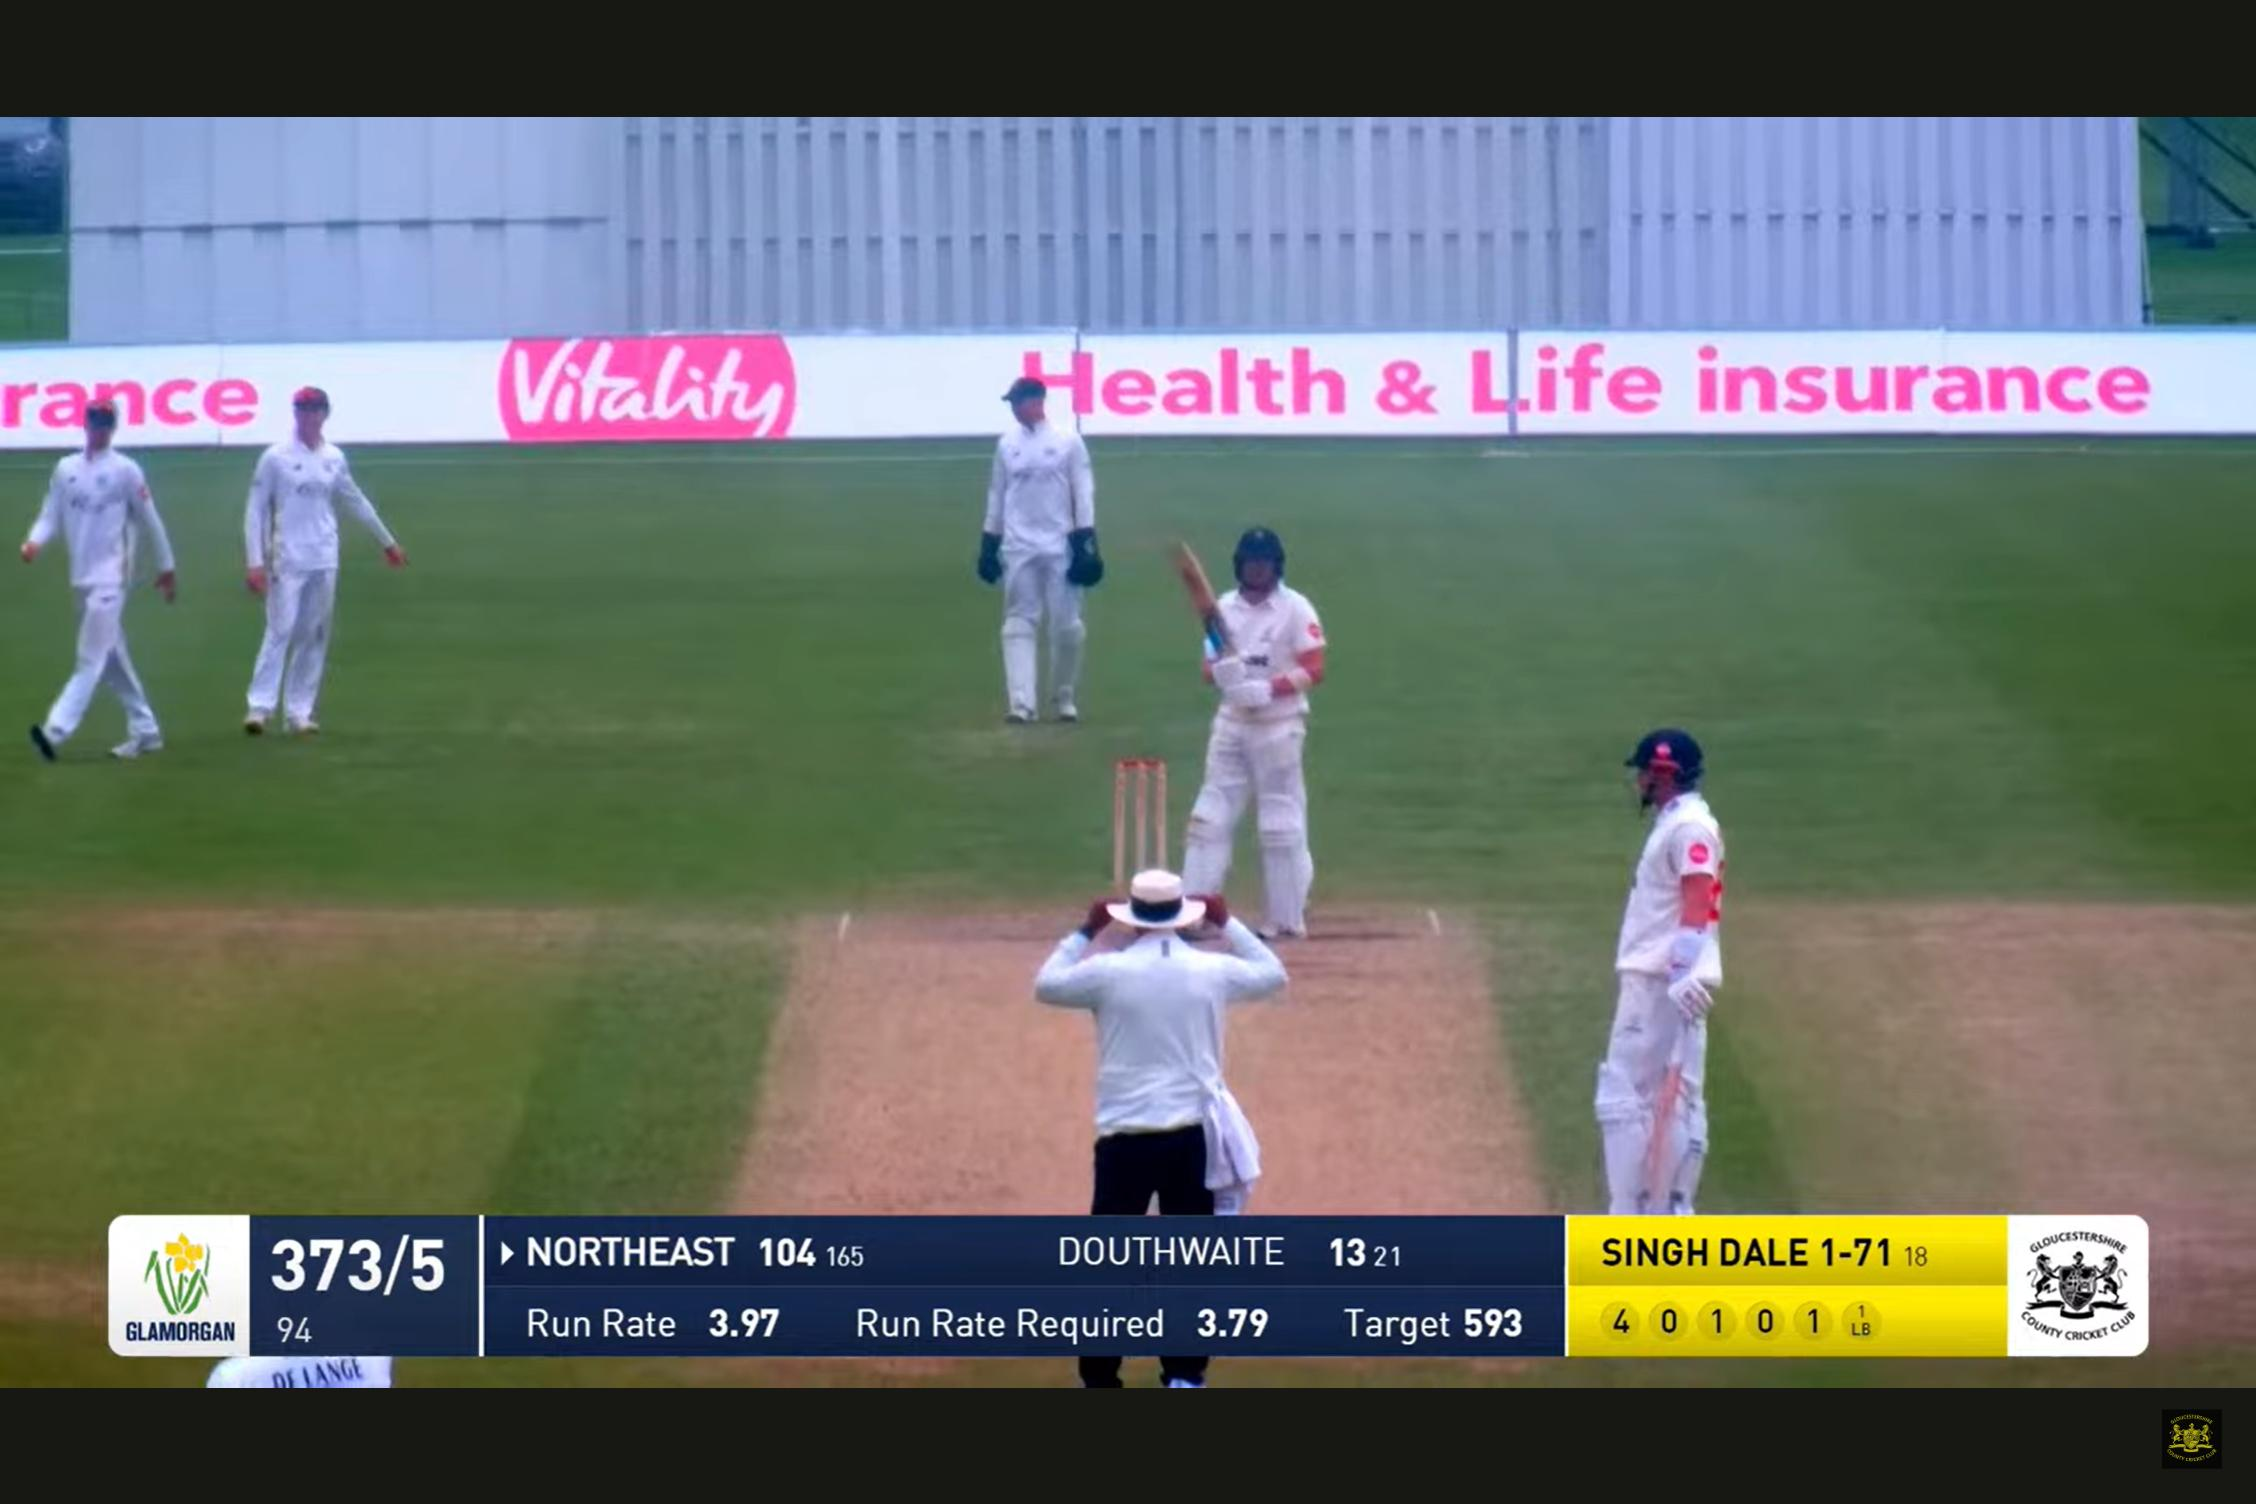batsman: (1173, 509, 1376, 901)
non striker: (1559, 693, 1788, 1220)
wicket keeper: (942, 363, 1104, 730)
